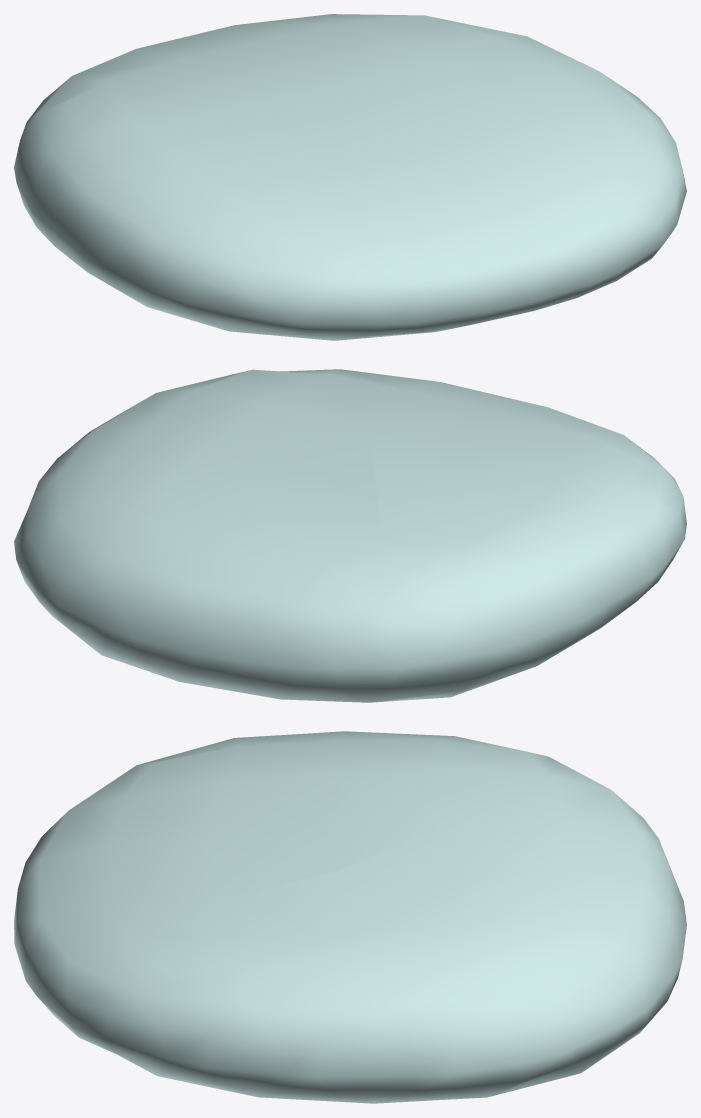
The model's file is SM_Bed_02c.fbx.
The picture shows the model from 3 angles, top to bottom: view 1: azimuth 30°, elevation 25°; view 2: azimuth 150°, elevation 25°; view 3: azimuth 270°, elevation 25°; orthographic projection. The views are drawn at different scales.
Visible parts, largest first — view 1: SM_Bed_02c; view 2: SM_Bed_02c; view 3: SM_Bed_02c.
Boxes of the visible parts, x1=… form: SM_Bed_02c: x1=14, y1=14, x2=686, y2=340; SM_Bed_02c: x1=14, y1=369, x2=686, y2=702; SM_Bed_02c: x1=14, y1=731, x2=686, y2=1103.
Bounding box in the file's own units: 68.15 × 15.88 × 66.32.
